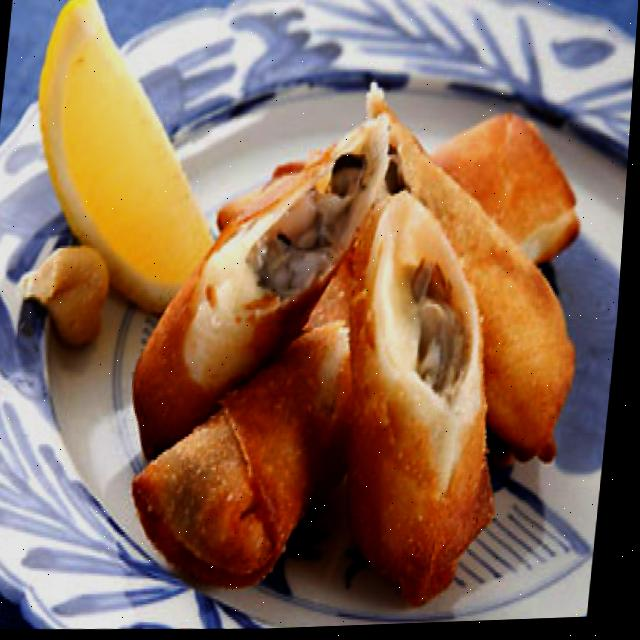鸡蛋料理: (114, 82, 607, 620)
